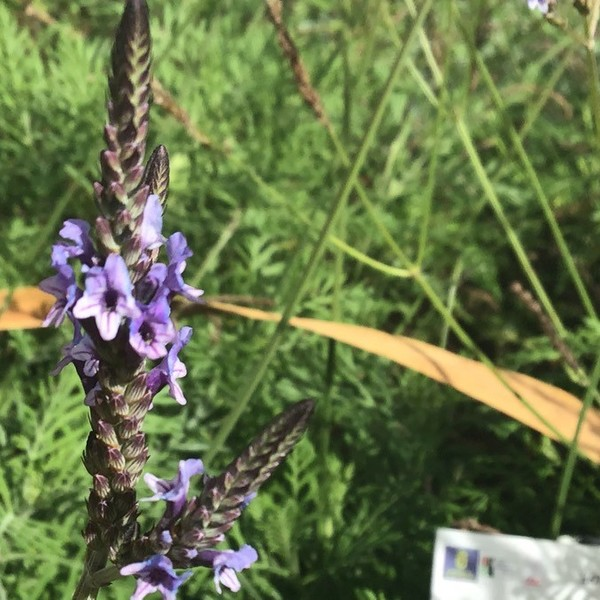obstacle: (181, 31, 572, 313), (62, 46, 255, 567)
